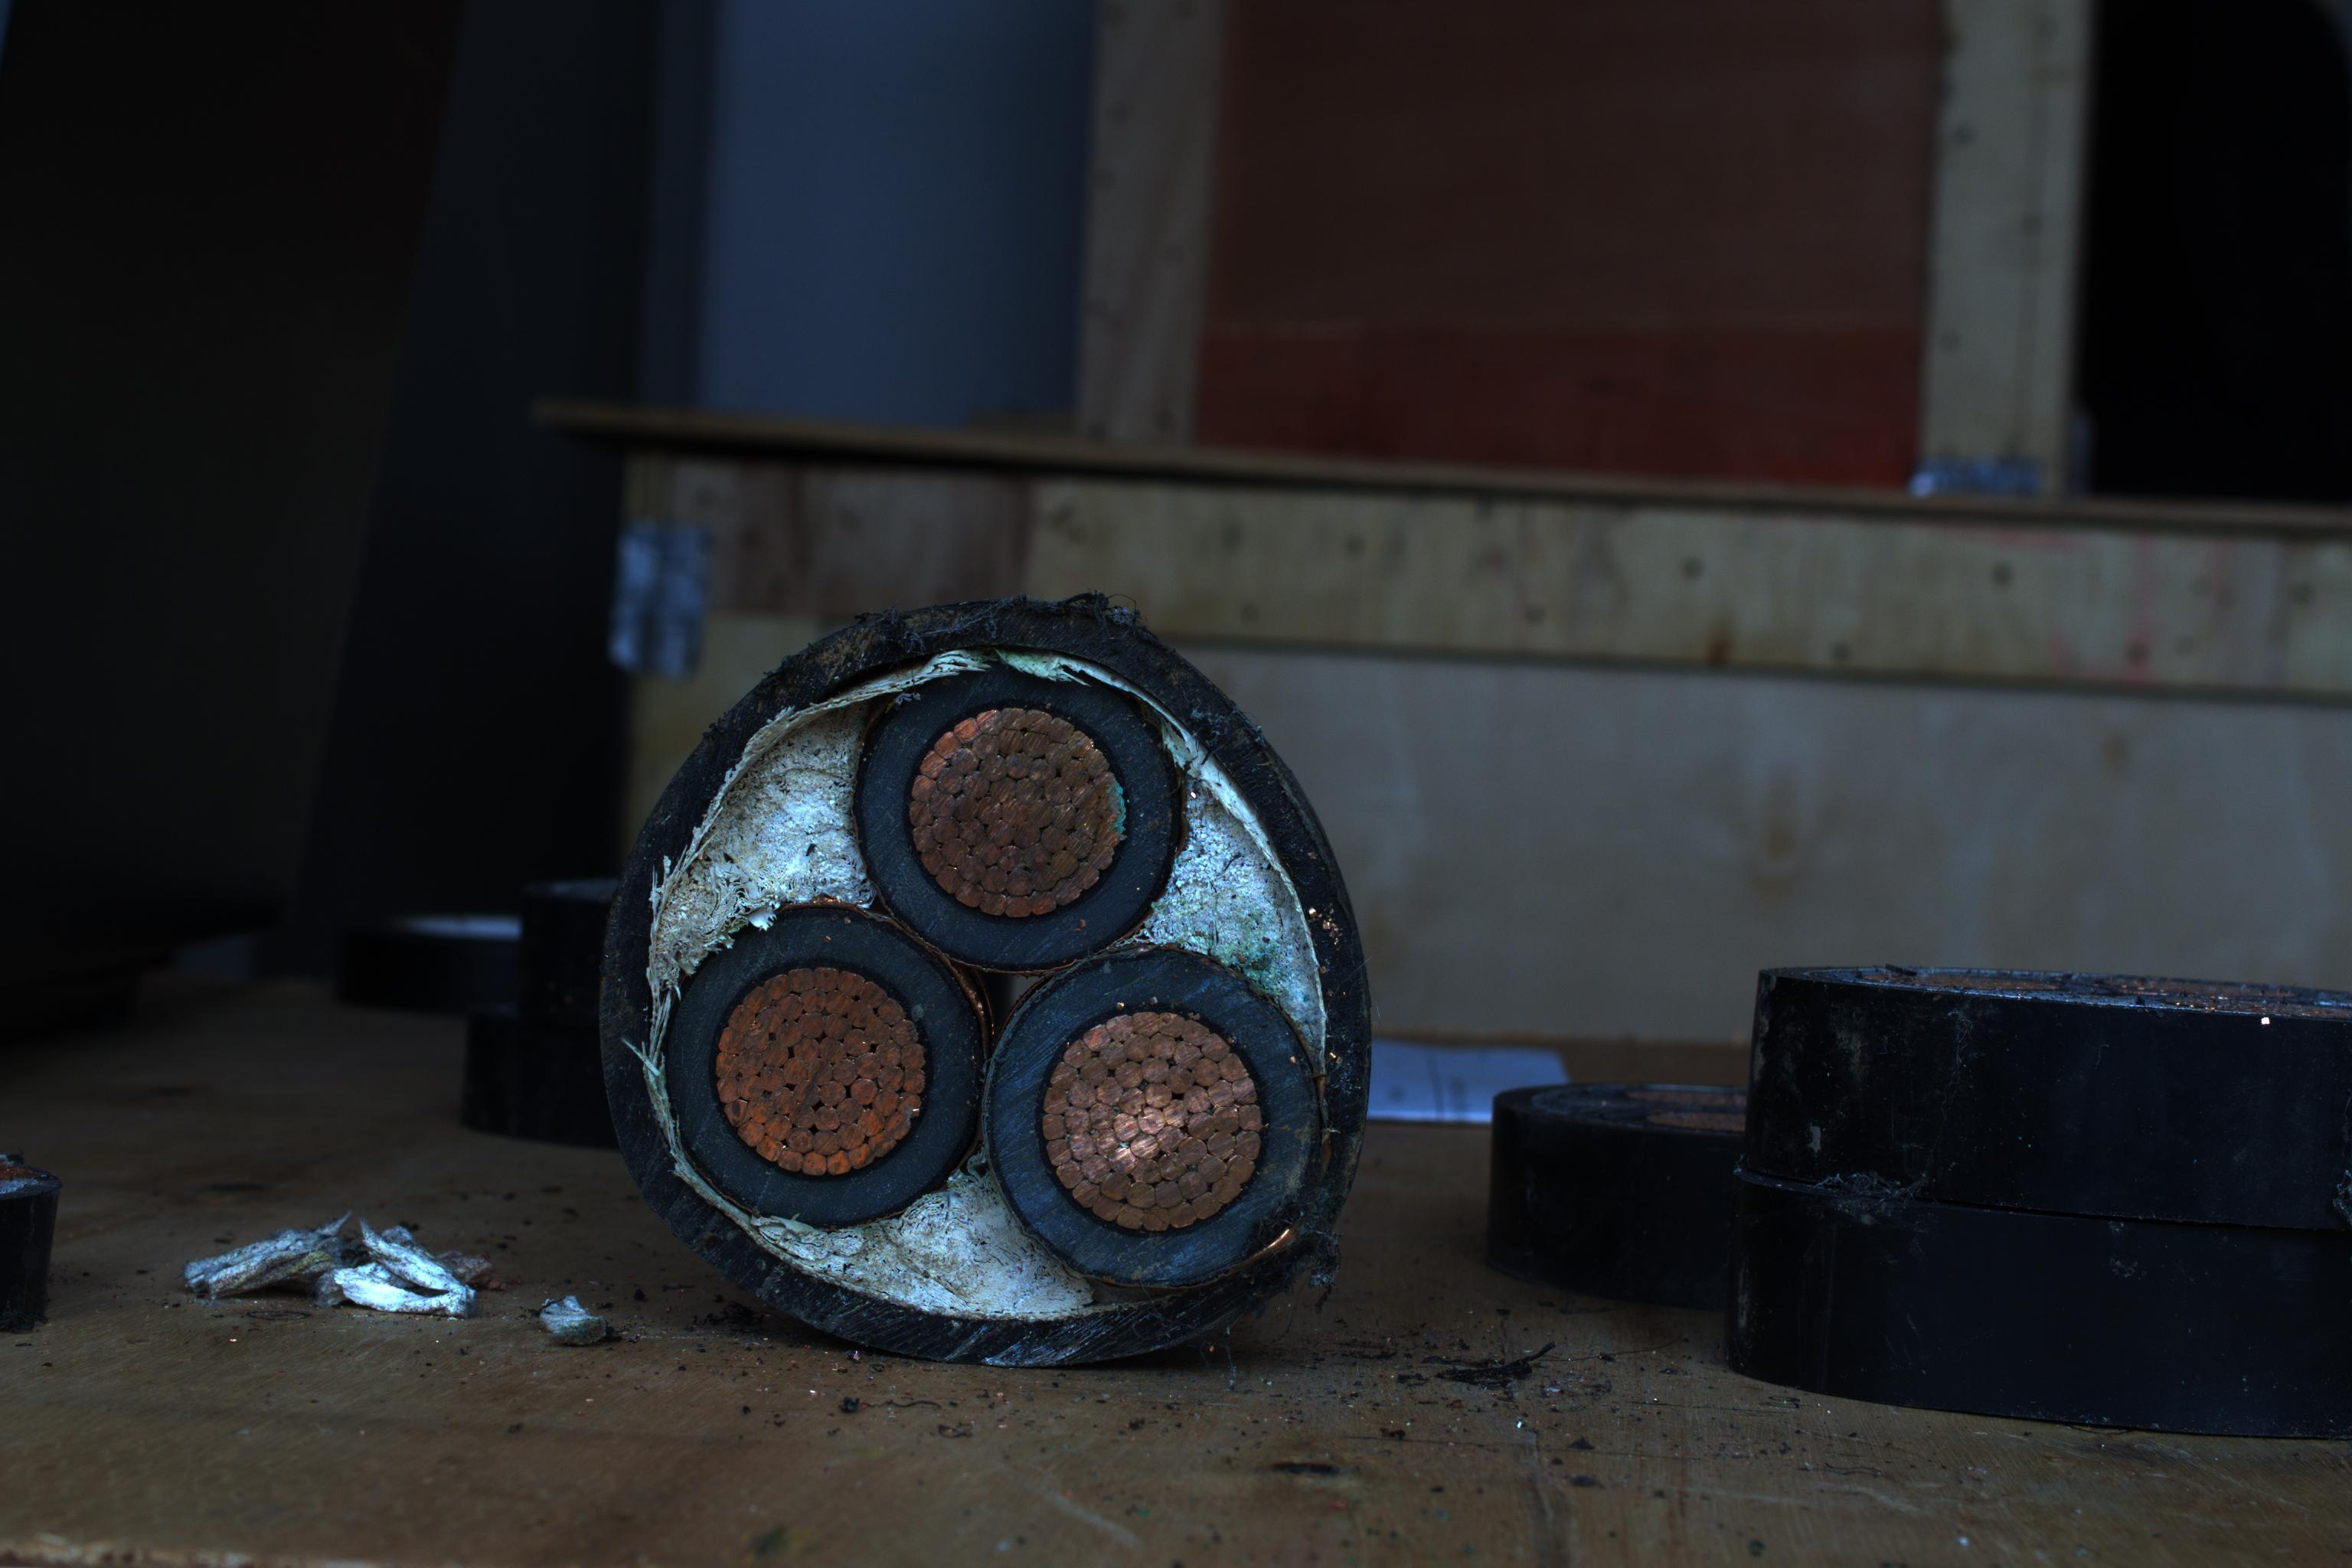ZA_YJV_8.7_10kV_3x400: (588, 640, 1328, 1372)
